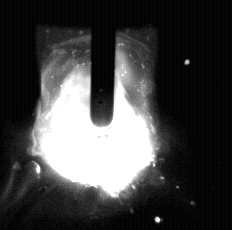arame: (92, 0, 117, 128)
poca: (40, 0, 152, 230)
